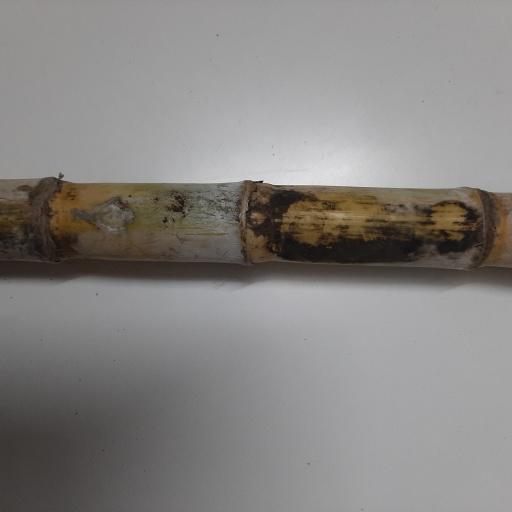Bud: (244, 208, 267, 230)
